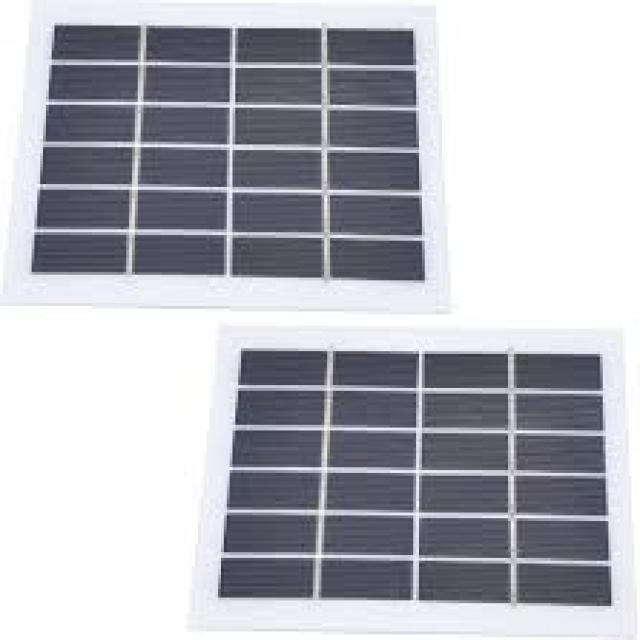Solar: (206, 320, 617, 613), (31, 11, 423, 309)
